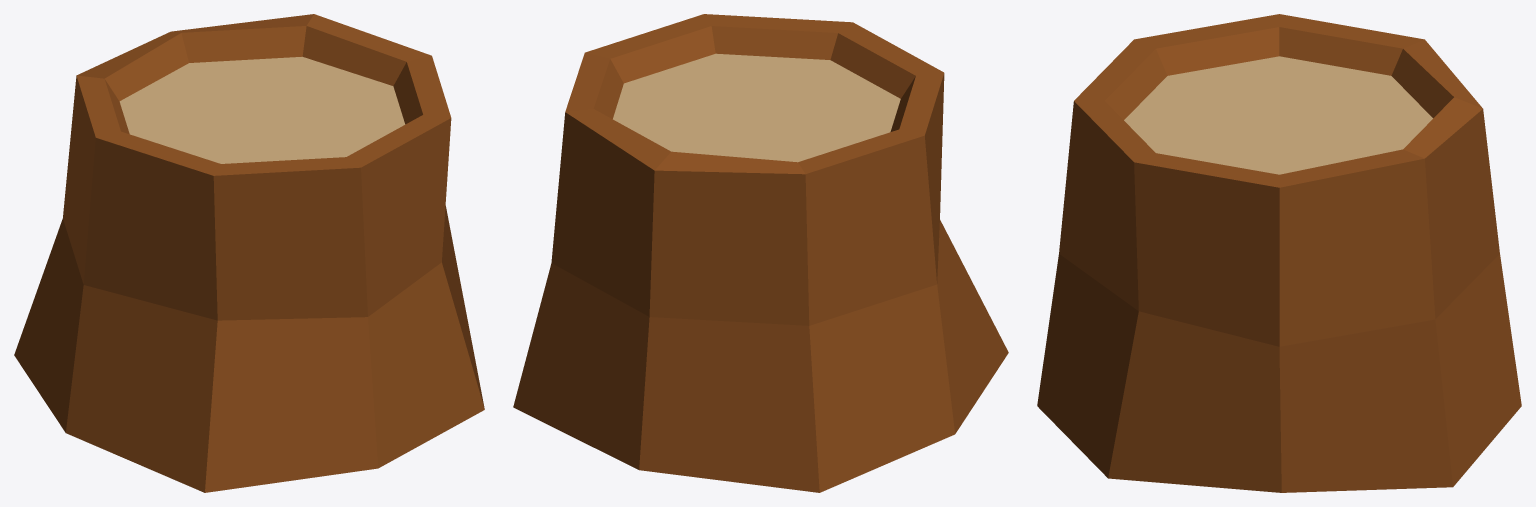
File: fabz_cut_trunk.glb
The picture shows the model from 3 angles, left to right: view 1: azimuth 30°, elevation 25°; view 2: azimuth 150°, elevation 25°; view 3: azimuth 270°, elevation 25°; orthographic projection. The views are drawn at different scales.
Parts seen in each view (by area): view 1: fabz_cut_trunk; view 2: fabz_cut_trunk; view 3: fabz_cut_trunk.
Part boxes in pixels (bbox=[...]): fabz_cut_trunk: bbox=[14, 14, 484, 492]; fabz_cut_trunk: bbox=[513, 14, 1008, 492]; fabz_cut_trunk: bbox=[1037, 14, 1521, 492].
Size of the model in its own units: 0.4753 by 0.35 by 0.4977.
